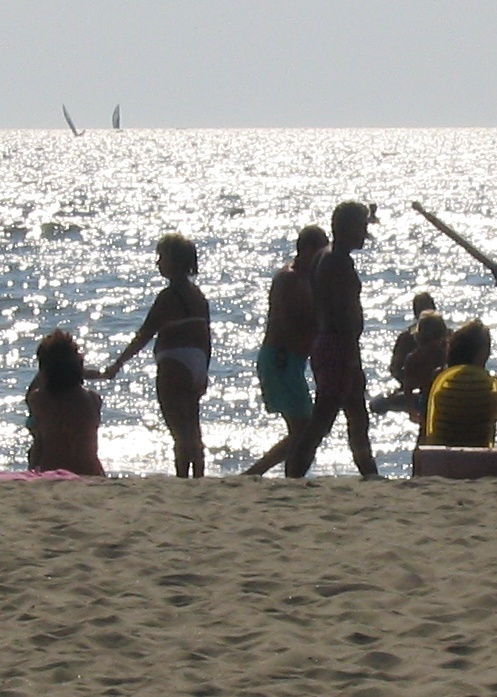person: (141, 232, 217, 490), (313, 199, 380, 482), (258, 221, 331, 478)
